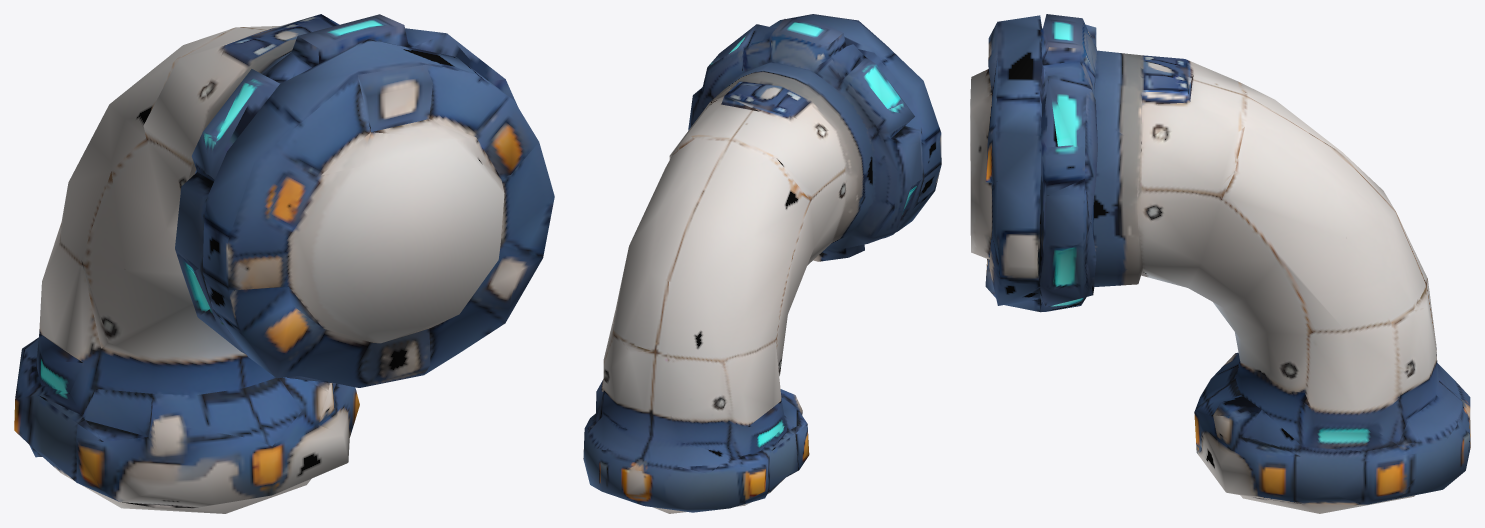
The model's file is cryo-pipe-elbow_LOD1.glb.
3 views of the same model, side by side, from view 1: azimuth 30°, elevation 25°; view 2: azimuth 150°, elevation 25°; view 3: azimuth 270°, elevation 25° (orthographic). The views are drawn at different scales.
Parts seen in each view (by area): view 1: cryo-pipe-elbow_LOD1; view 2: cryo-pipe-elbow_LOD1; view 3: cryo-pipe-elbow_LOD1.
Part boxes in pixels (<box>): cryo-pipe-elbow_LOD1: <box>14,14,554,513</box>; cryo-pipe-elbow_LOD1: <box>583,14,941,513</box>; cryo-pipe-elbow_LOD1: <box>970,14,1470,513</box>.
Bounding box in the file's own units: 0.4535 × 0.7279 × 0.7373.
1 material, 1 textured.
